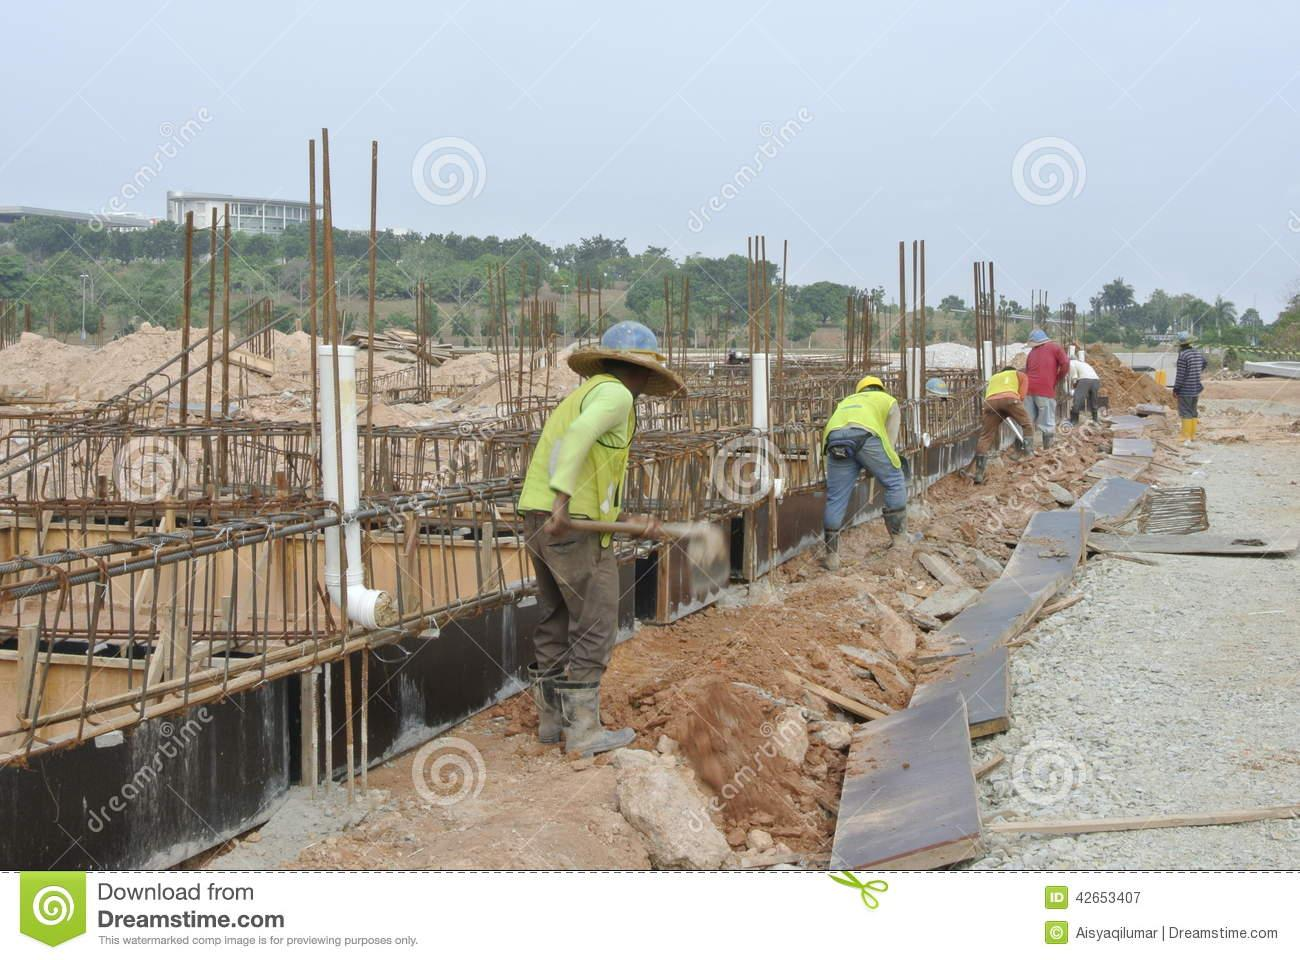helmet: (598, 321, 662, 360), (857, 378, 882, 394), (928, 380, 950, 398), (1030, 328, 1050, 345), (1177, 330, 1191, 344)
